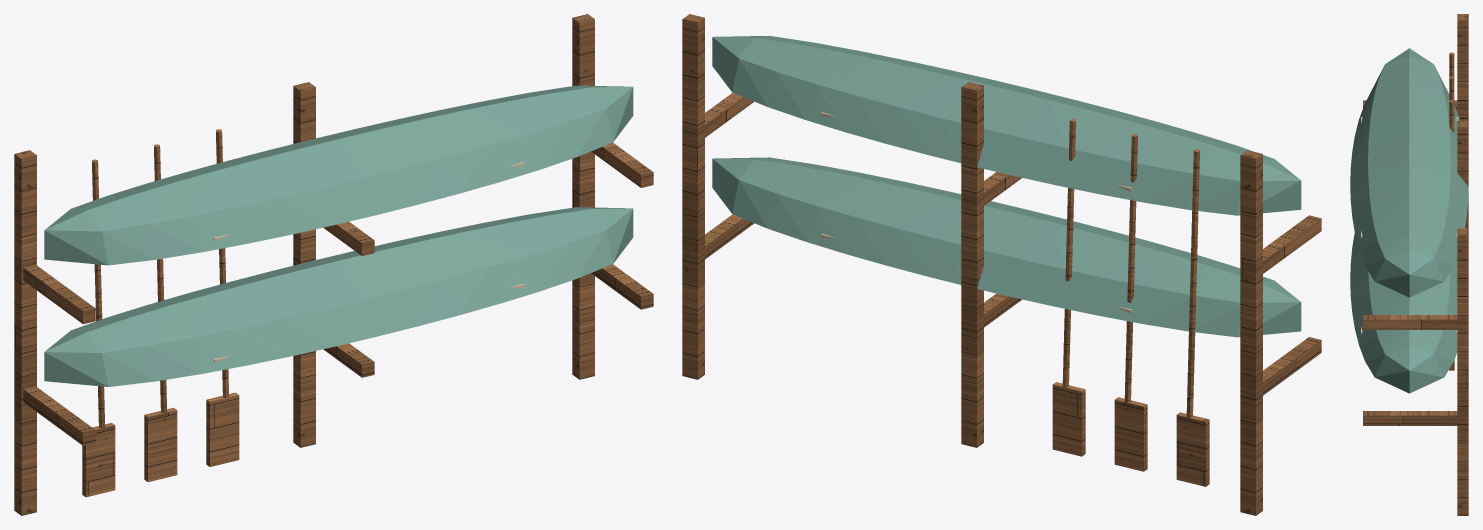
File: boat_rack.glb
3 renders of one model, left to right at view 1: azimuth 30°, elevation 25°; view 2: azimuth 150°, elevation 25°; view 3: azimuth 270°, elevation 25°, orthographic. The views are drawn at different scales.
Visible parts, largest first — view 1: boat_rack_boat_g, boat_rack_wood; view 2: boat_rack_boat_g, boat_rack_wood; view 3: boat_rack_boat_g, boat_rack_wood.
Part boxes in pixels (bbox=[...]): boat_rack_boat_g: bbox=[44, 85, 633, 386]; boat_rack_wood: bbox=[14, 14, 653, 515]; boat_rack_boat_g: bbox=[712, 35, 1301, 337]; boat_rack_wood: bbox=[682, 14, 1321, 515]; boat_rack_boat_g: bbox=[1350, 48, 1468, 393]; boat_rack_wood: bbox=[1363, 14, 1468, 515].
Size of the model in its own units: 3.8 by 2.2 by 0.84.
Materials: 3 (1 with a texture image).
